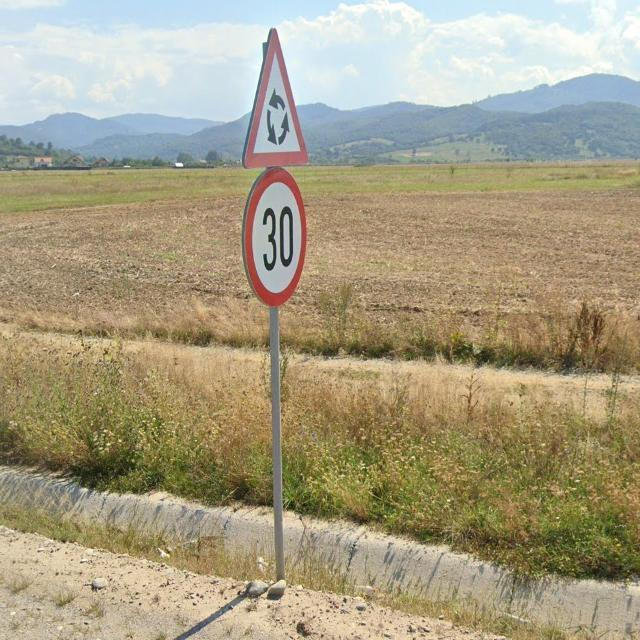forb_speed_over_30: (242, 168, 310, 308)
